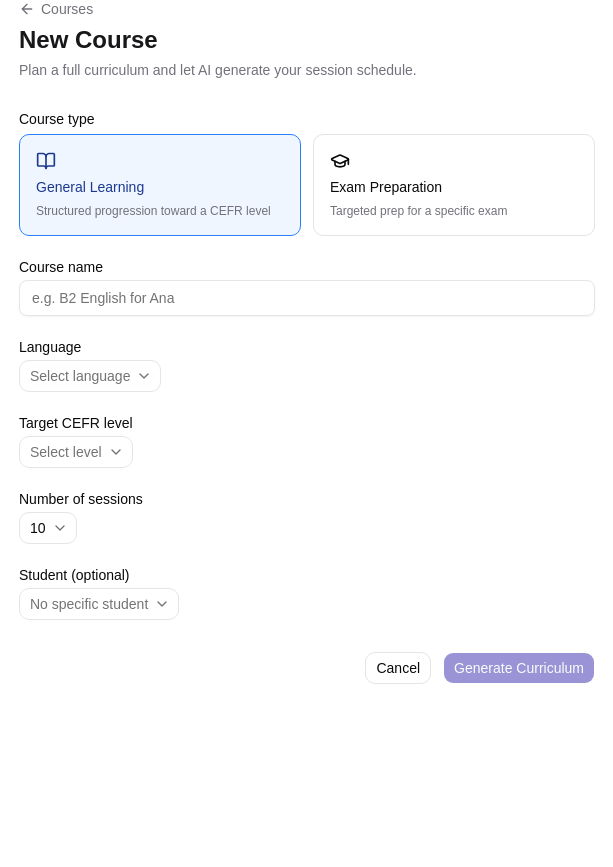
Test: CourseNew wizard › CEFR mismatch warning › shows warning when student and target CEFR levels diverge by 2+
The width and height of the screenshot is (613, 867).
Select student
Click the dropdown with test id "student-select" at (99, 604), box [19,588,179,620]
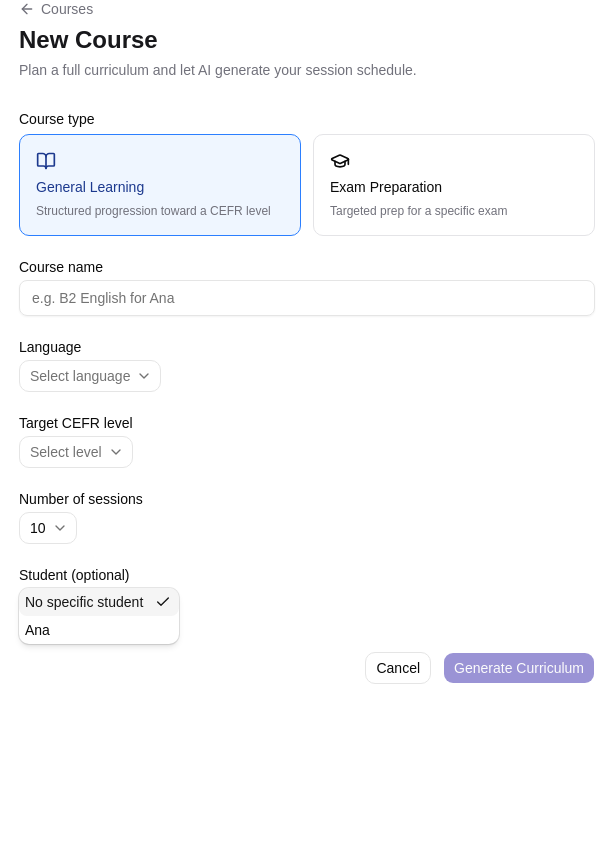
Click the option "Ana" at (37, 630), box [25,622,50,638]
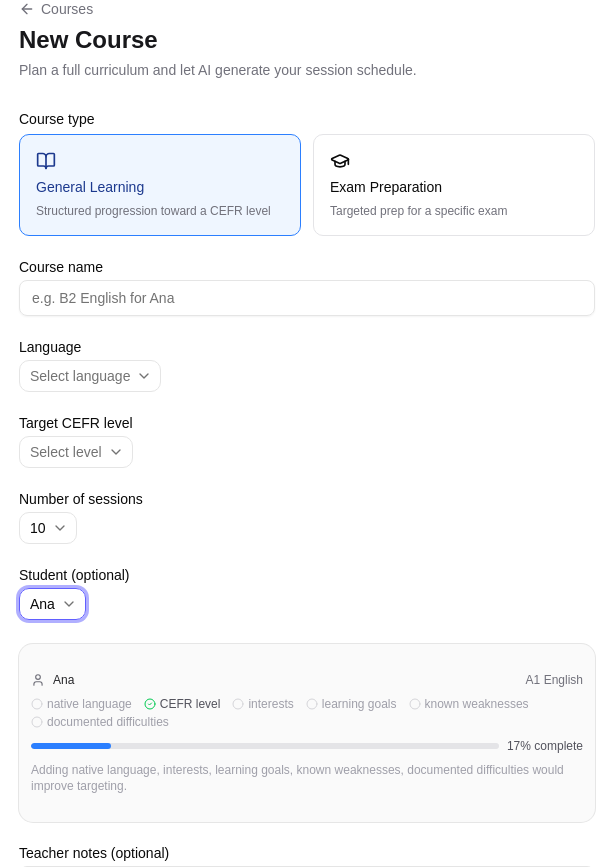
Select CEFR level — C1 (gap 4 from A1)
Click the dropdown with test id "cefr-select" at (76, 452), box [19,436,133,468]
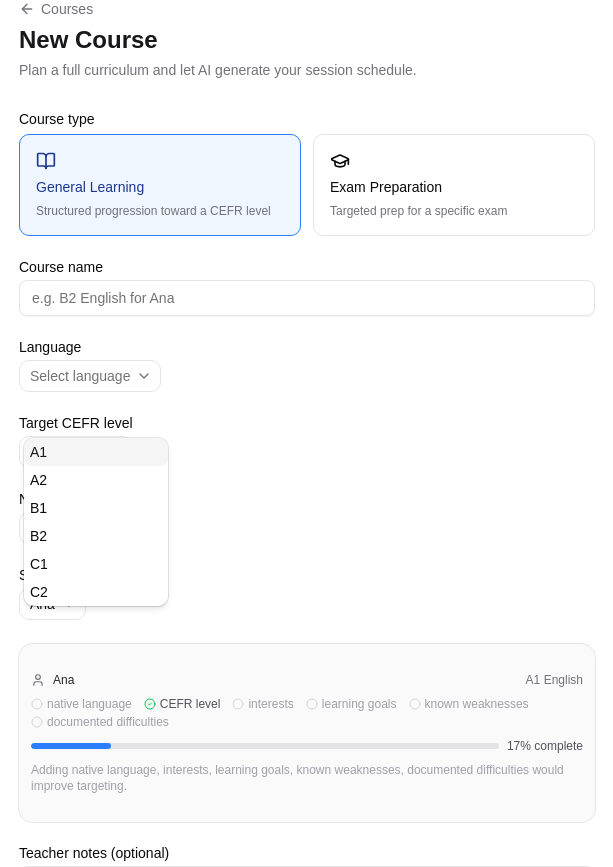
Click the option "C1" at (39, 564), box [30,556,48,572]
(page scrolled)
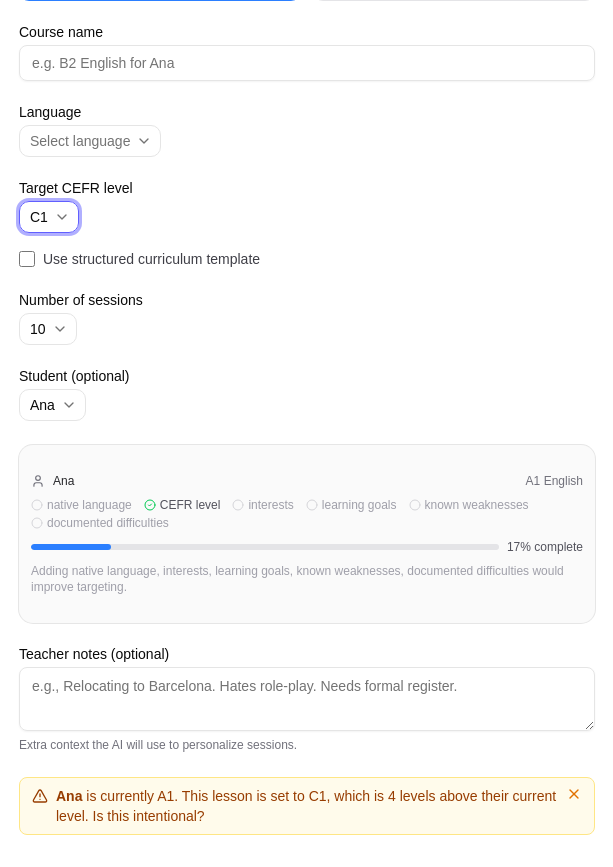
Check: the element with test id "cefr-mismatch-warning" is shown, box [19,777,595,835]
Check: the element with test id "cefr-mismatch-warning" shows "A1", box [157,788,174,804]
Check: the element with test id "cefr-mismatch-warning" shows "C1", box [309,788,326,804]
